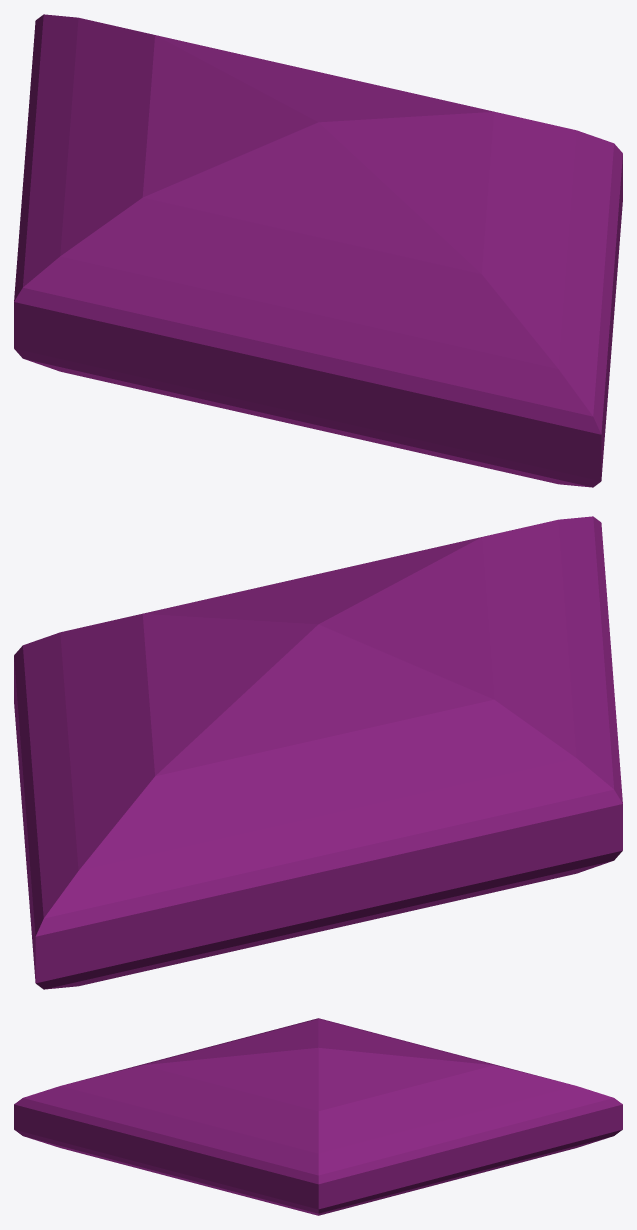
The model's file is Gem018.fbx.
The picture shows the model from 3 angles, top to bottom: view 1: azimuth 30°, elevation 25°; view 2: azimuth 150°, elevation 25°; view 3: azimuth 270°, elevation 25°; orthographic projection. The views are drawn at different scales.
Parts seen in each view (by area): view 1: Gem018; view 2: Gem018; view 3: Gem018.
Boxes of the visible parts, left/top/right/bottom form: Gem018: left=14, top=14, right=622, bottom=487; Gem018: left=14, top=516, right=622, bottom=989; Gem018: left=14, top=1018, right=622, bottom=1215.
Size of the model in its own units: 208 by 83.87 by 334.
